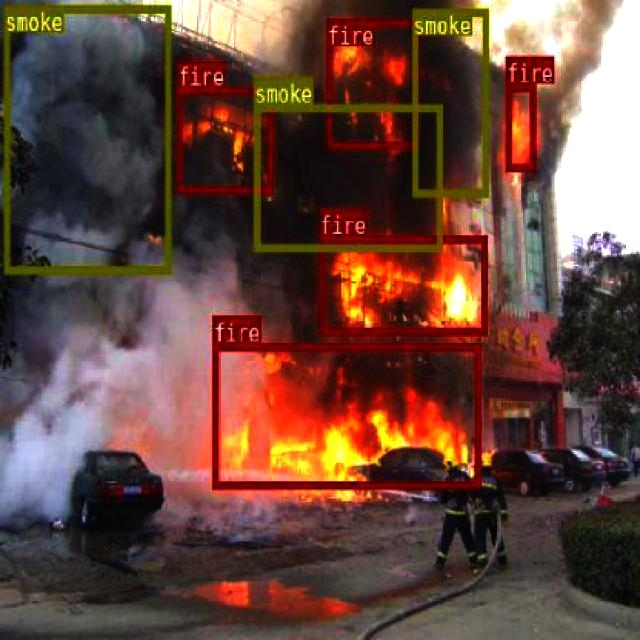fire: (212, 342, 479, 487), (318, 234, 486, 334), (325, 19, 418, 148), (176, 86, 272, 192), (506, 83, 534, 171)
smoke: (3, 4, 169, 273), (252, 103, 440, 249), (410, 7, 488, 195)
